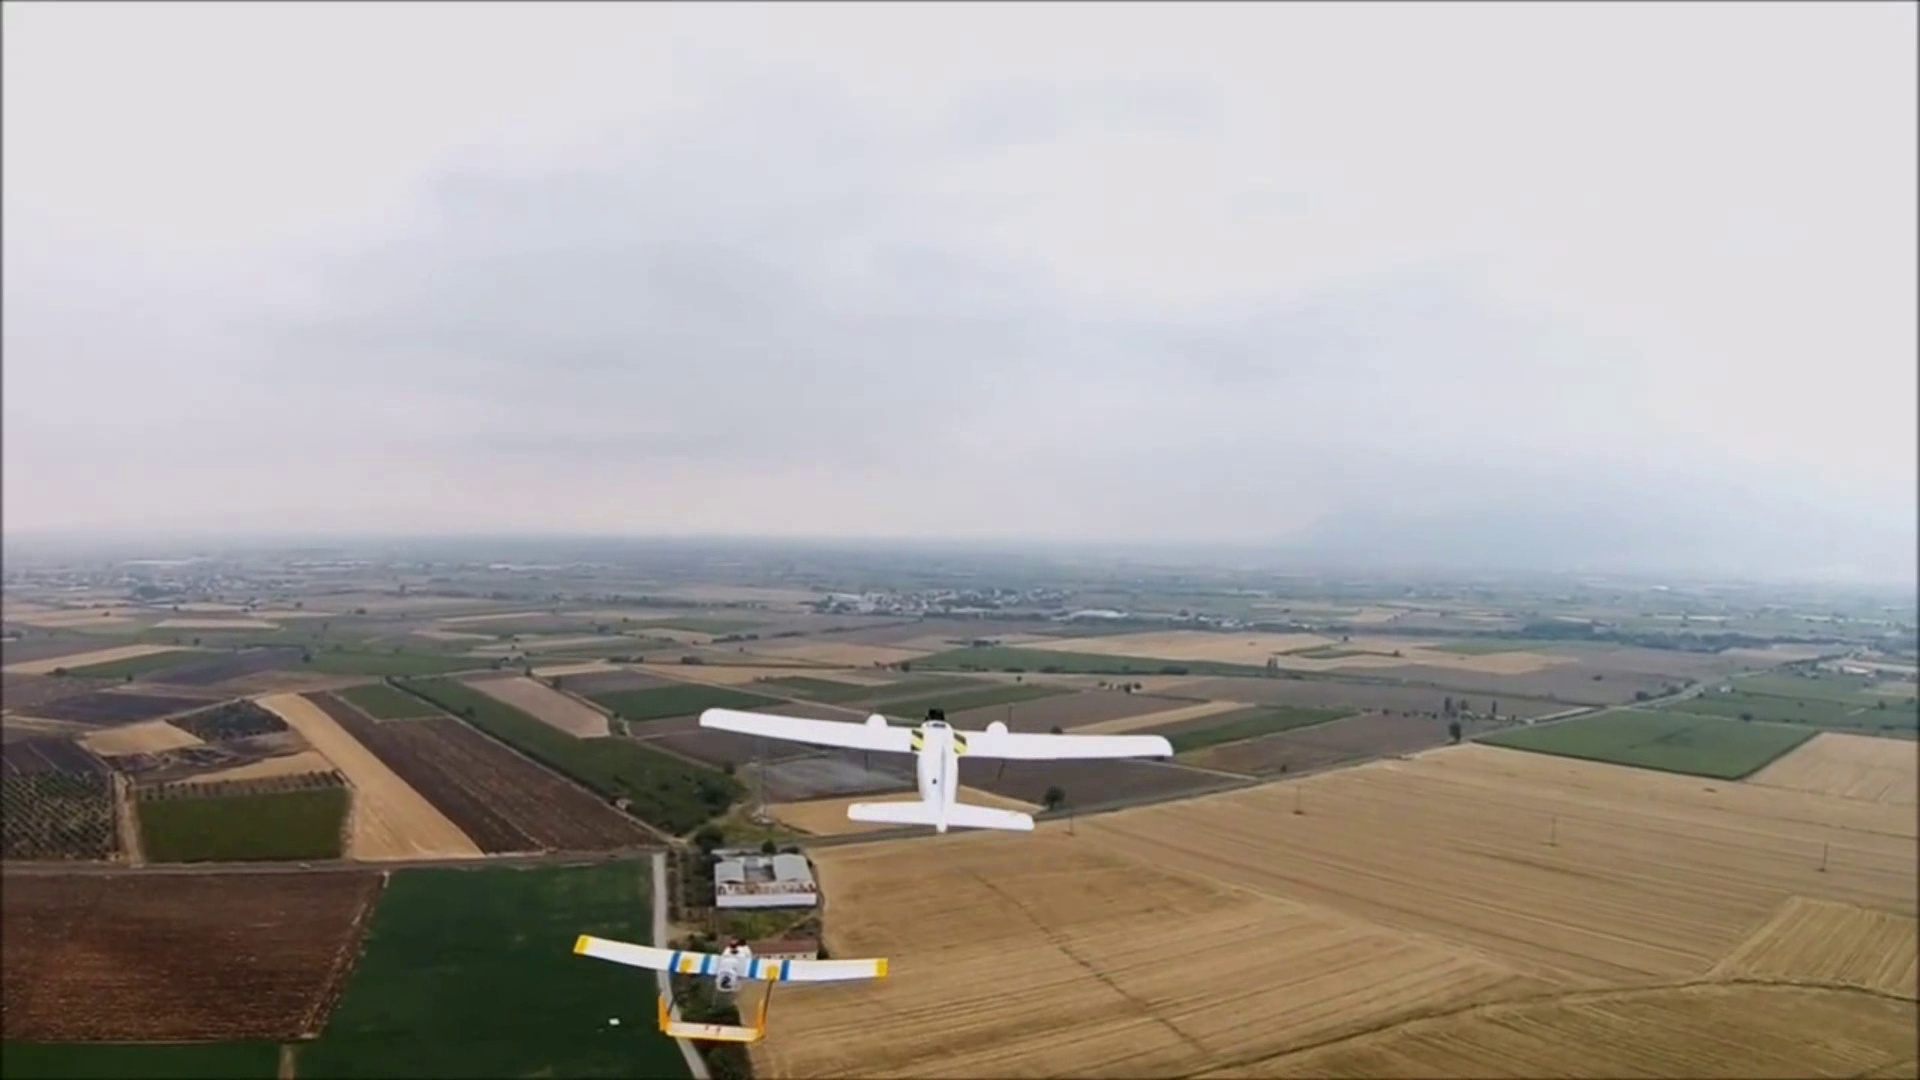airplane: (694, 688, 1187, 825)
